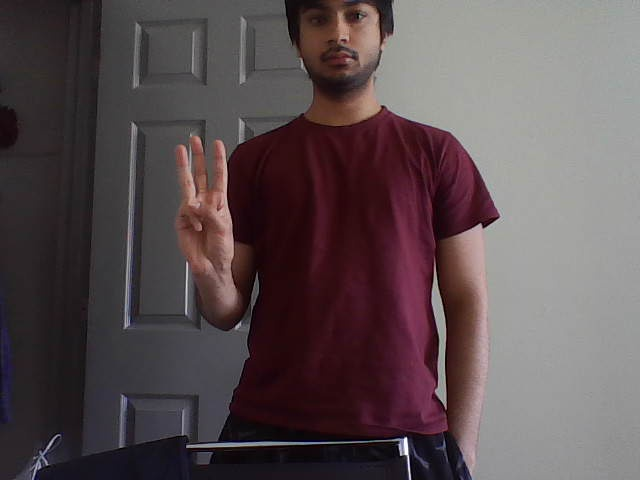three: (168, 132, 235, 208)
